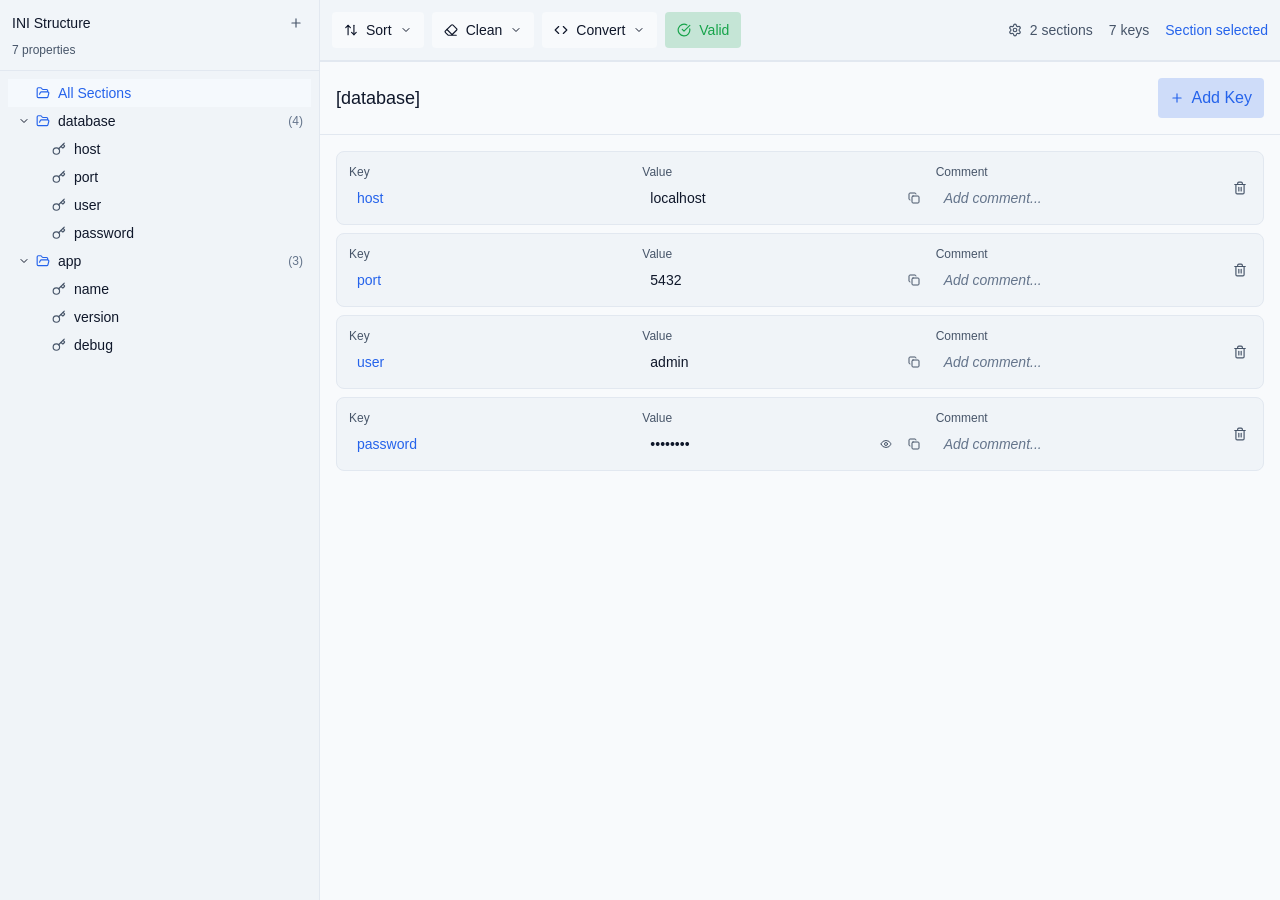
it: IniSmartView › should disable Add button when section name is empty
Click the button titled "Add new section": click(296, 23) [285,12,307,34]
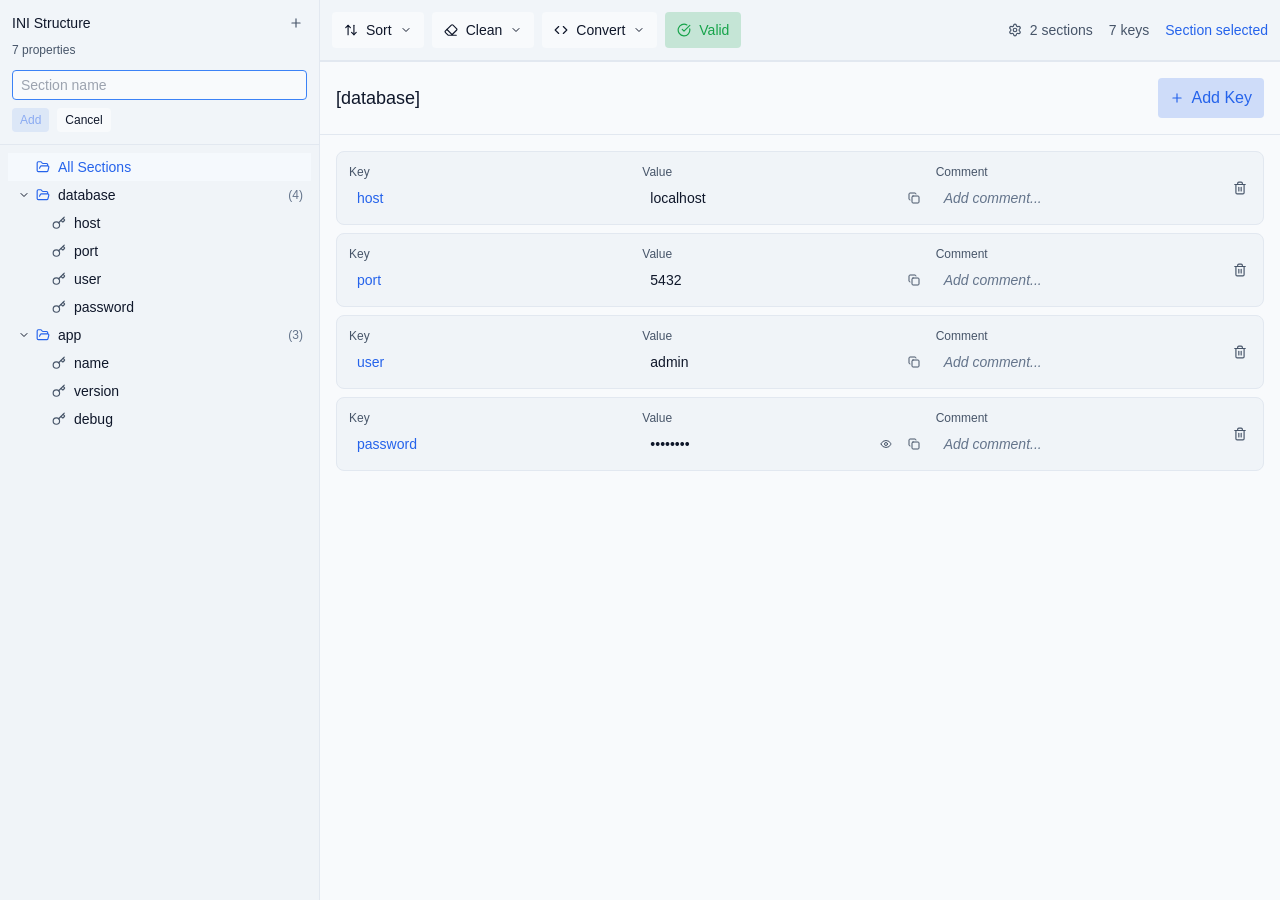
Expected: the button "Add" is disabled, [12,108,49,132]
# Type something and it should become enabled
In the field with placeholder "Section name": (160, 85) [12,70,307,100], type "test"
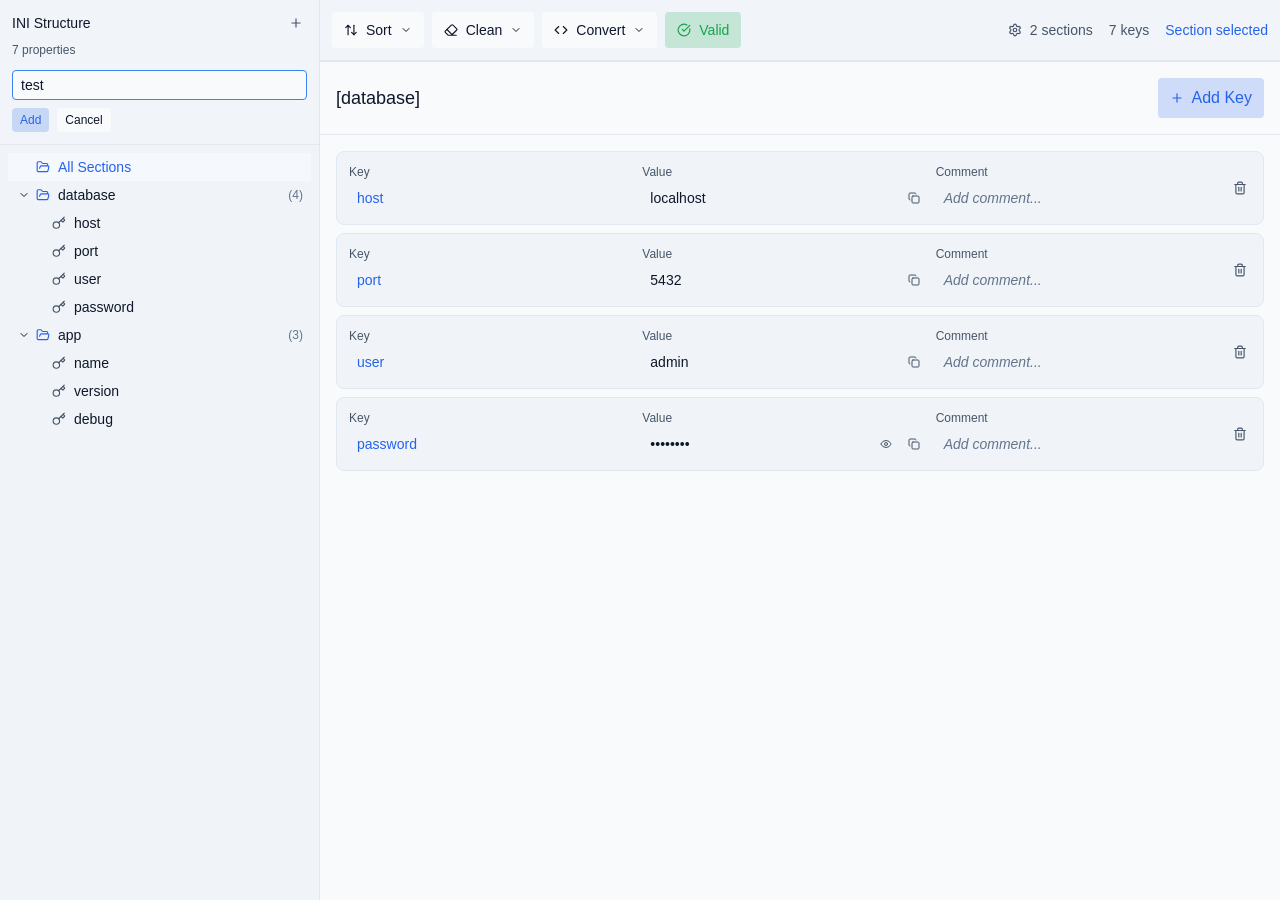
Expected: the button "Add" is enabled, [12,108,49,132]
